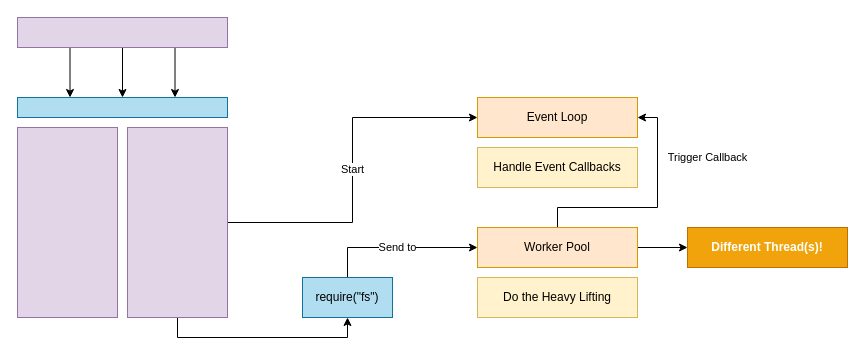
This 865x363 diagram has some shape labels left out. The shapes that lost their labels are listed below. From the top down, each one's centre as x and y in pixels, then its label:
At point 122,32: "Incoming Requests".
At point 67,222: "<Your Code>".
At point 177,222: "Single JavaScript Thread".
